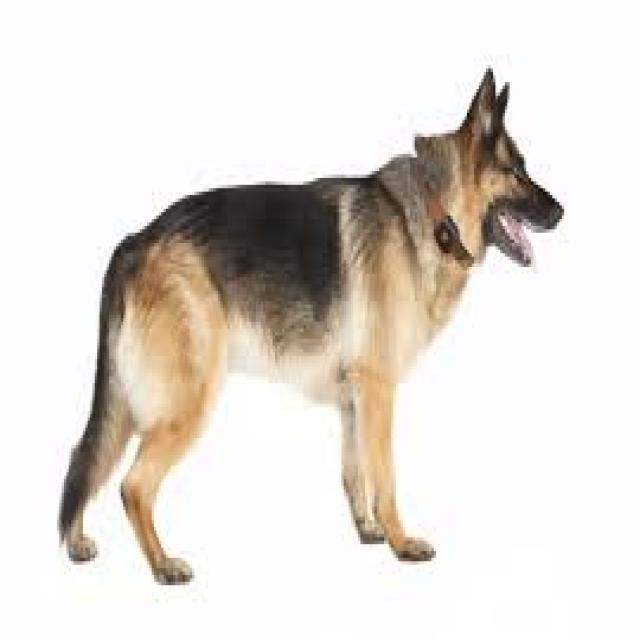GERMAN_SHEPHERD: (51, 60, 569, 599)
